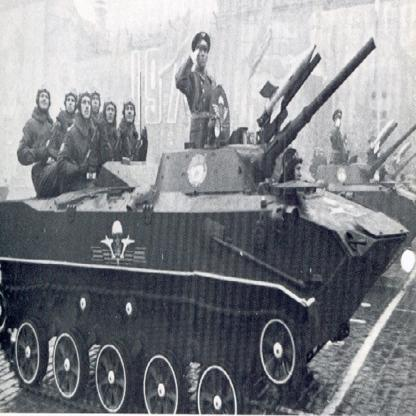Tank: (1, 38, 409, 416)
